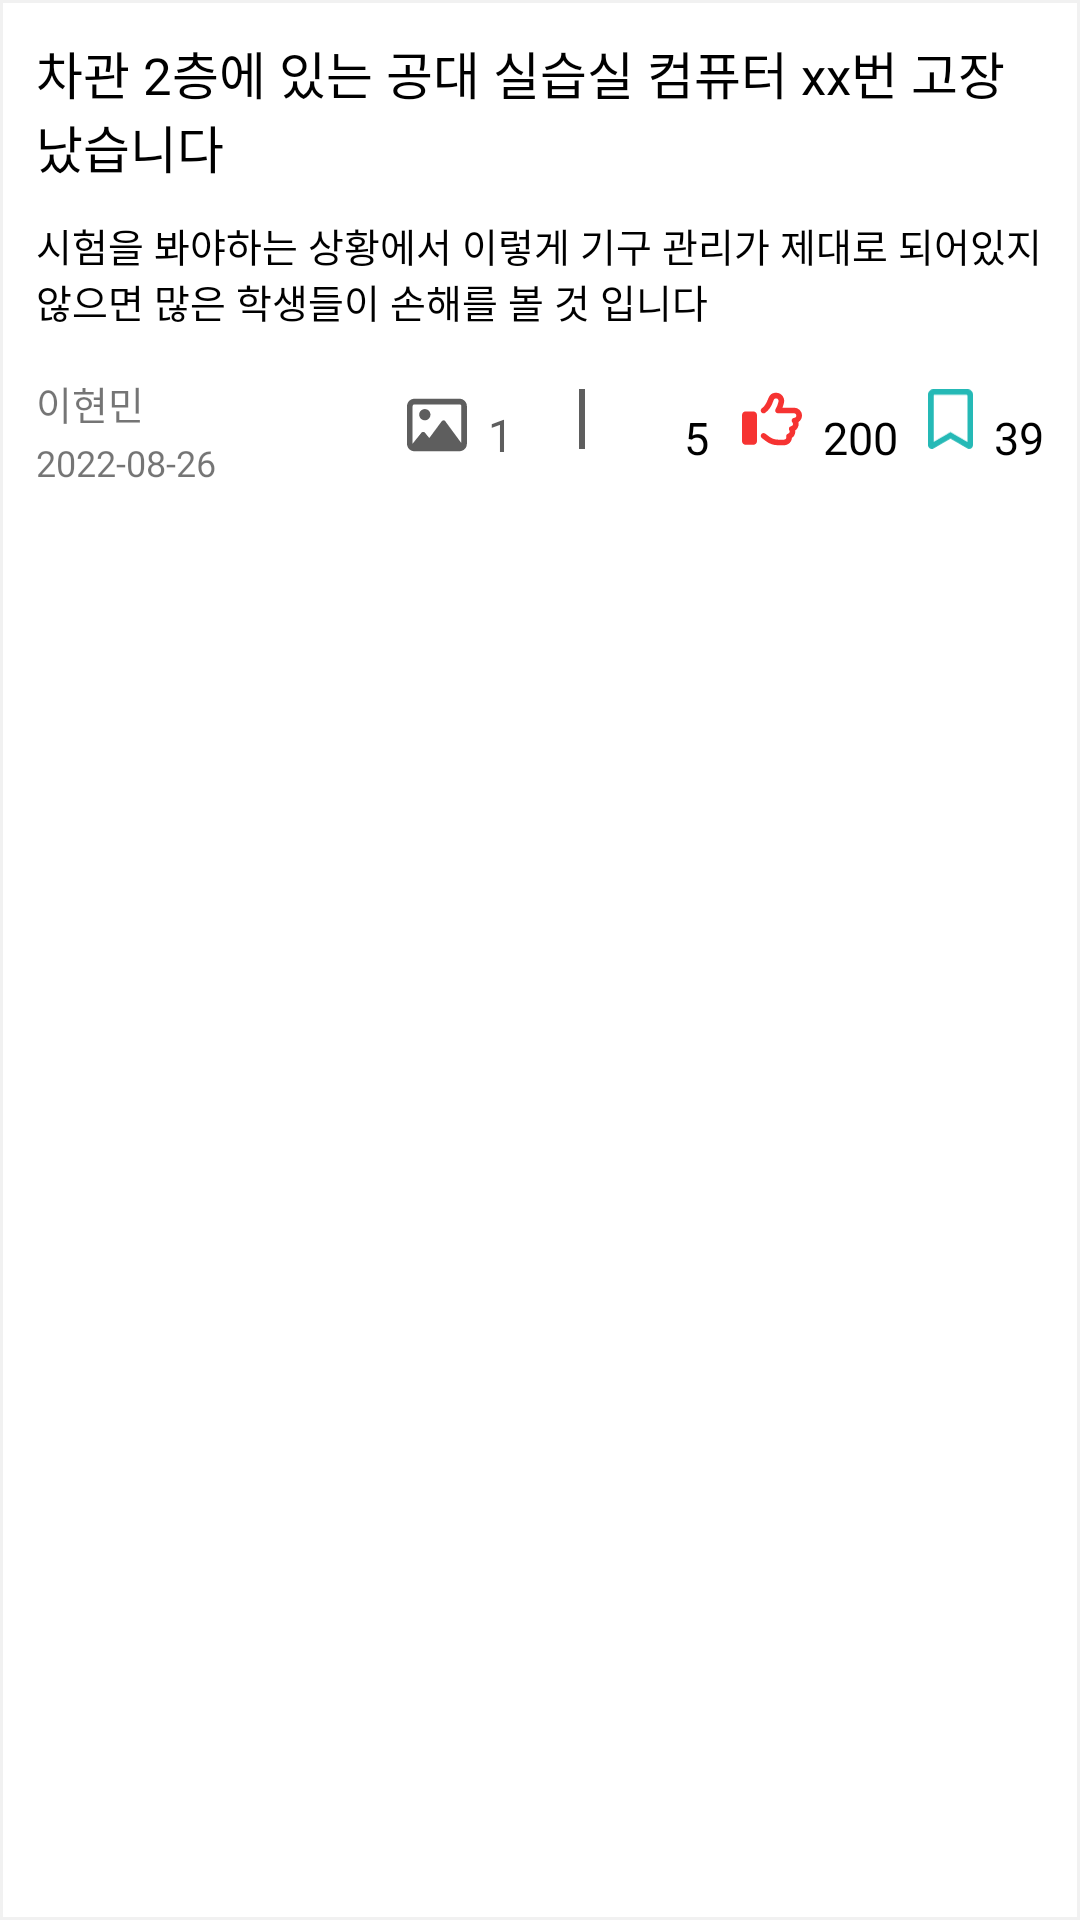

Where to tap for icons on this 1080 × 1920 app screen, as (x,y):
bookmark: (950,419)
thumbs up: (772,419)
